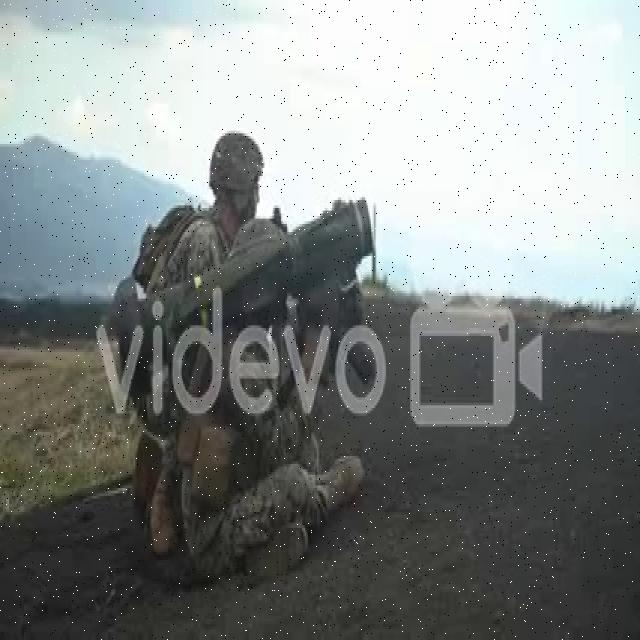bazooka: (111, 192, 380, 417)
